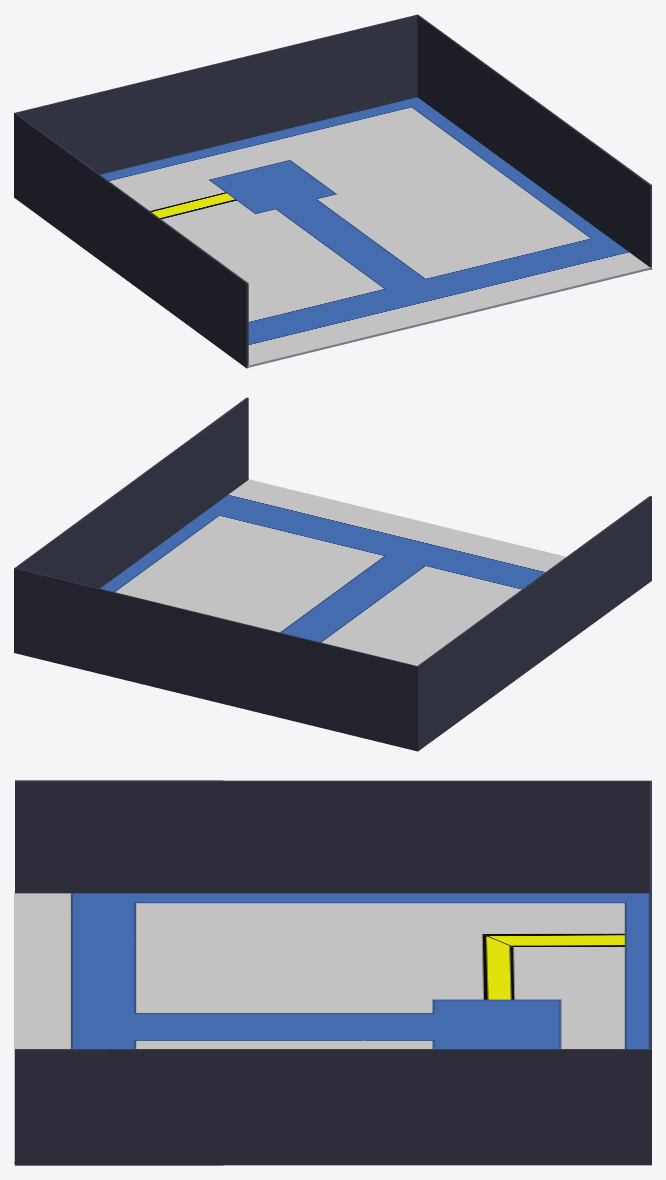
Rendered from Planta .fbx.
3 renders of one model, top to bottom at view 1: azimuth 30°, elevation 25°; view 2: azimuth 150°, elevation 25°; view 3: azimuth 270°, elevation 25°, orthographic. The views are drawn at different scales.
Visible parts, largest first — view 1: Plane, Cube; view 2: Cube, Plane; view 3: Cube, Plane.
Boxes of the visible parts, x1,y1,x2,y2 form: Plane: [100, 97, 651, 367]; Cube: [14, 14, 651, 368]; Cube: [14, 397, 651, 751]; Plane: [100, 479, 565, 665]; Cube: [15, 780, 651, 1165]; Plane: [14, 892, 649, 1164].
Size of the model in its own units: 1003 by 200 by 1002.
